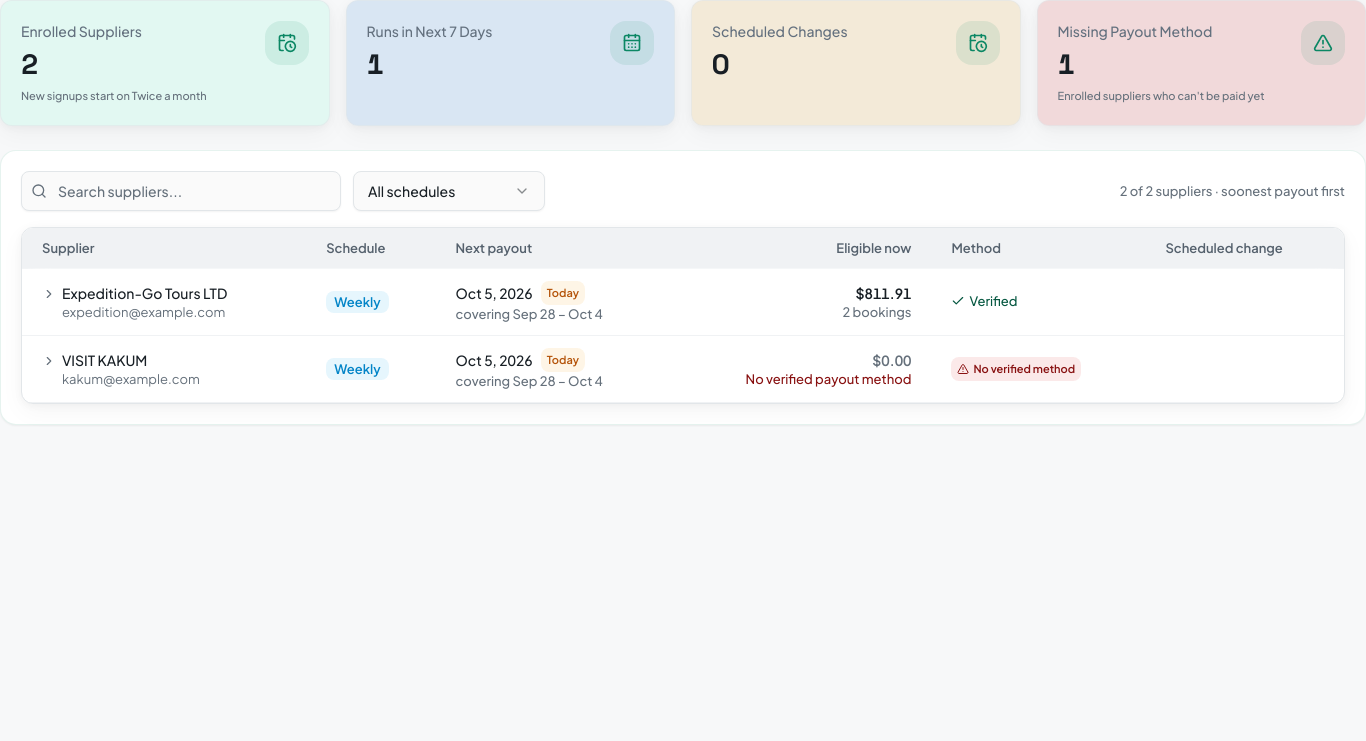
PayoutSchedulesTab — row expansion › expands on click and loads the bookings behind the figure
Check: the text "Expedition-Go Tours LTD" is shown, box [62, 283, 227, 303]
What coordinates should you click on to do the following:
click the text "Expedition-Go Tours LTD"
I would click on:
 (683, 302)
Its box is [22, 269, 1344, 335].
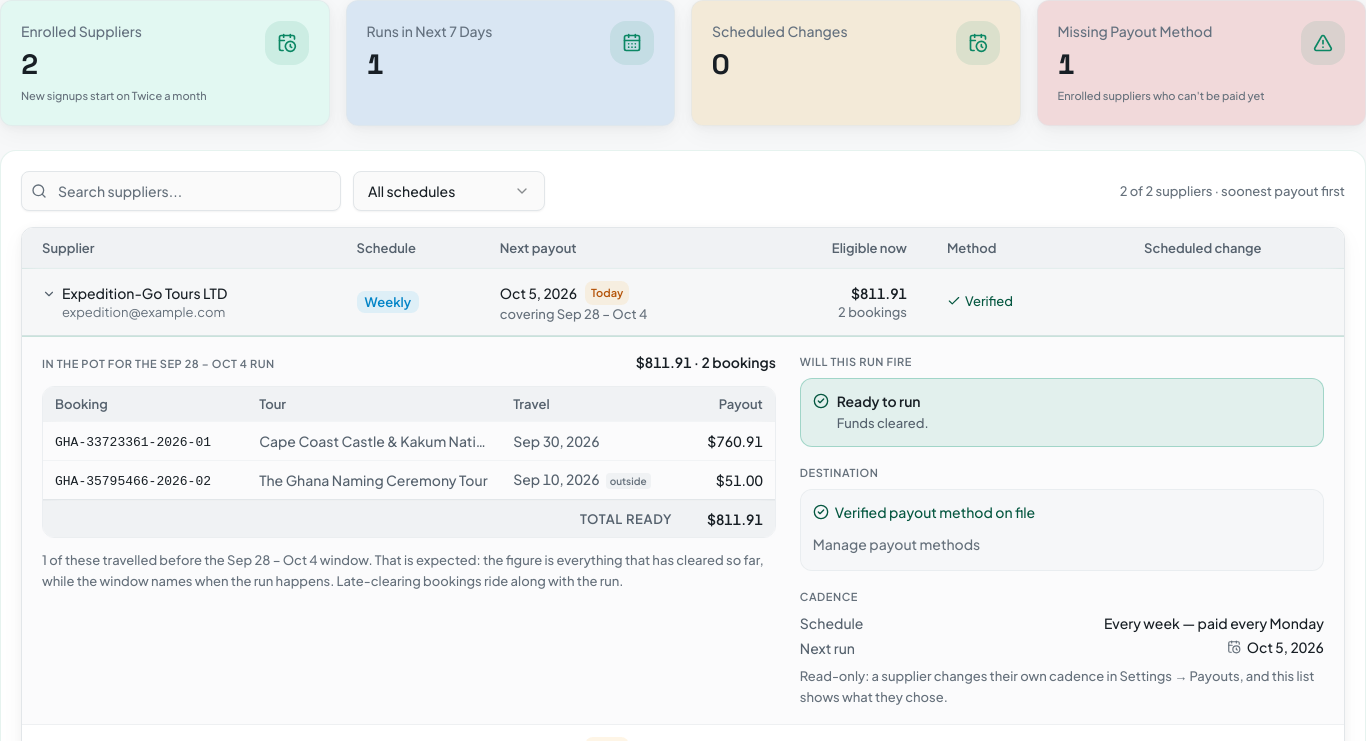
Check: the text "GHA-33723361-2026-01" is shown, box [55, 435, 211, 450]
Check: the text "Cape Coast Castle & Kakum National Park Tour" is shown, box [259, 431, 489, 451]
Check: the text "$811.91" is shown, box [684, 500, 775, 537]
